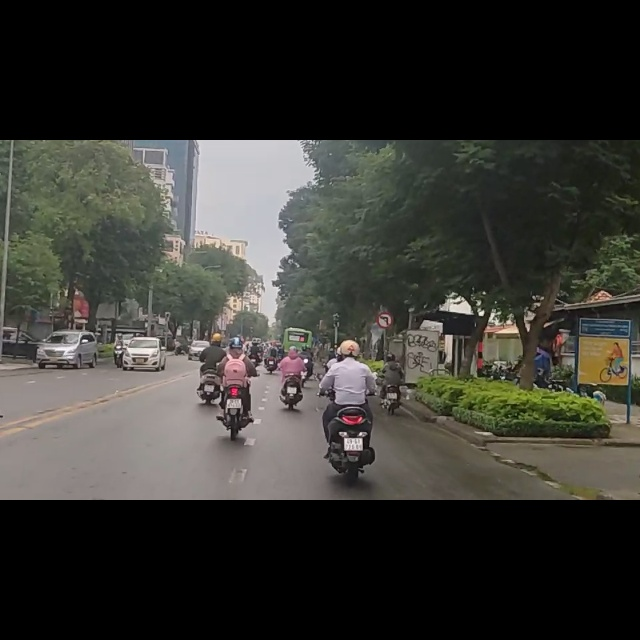bien_cam: (375, 303, 394, 335)
